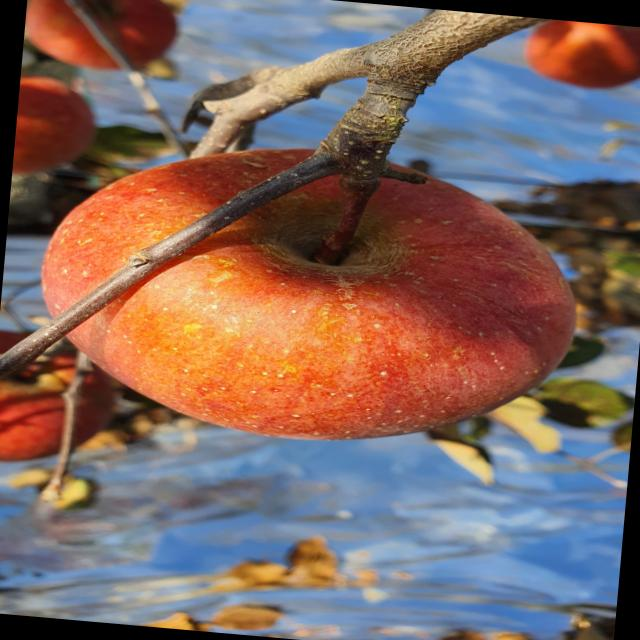fresh: (15, 108, 611, 470)
